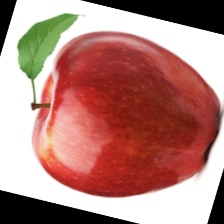apple: (50, 5, 187, 183)
